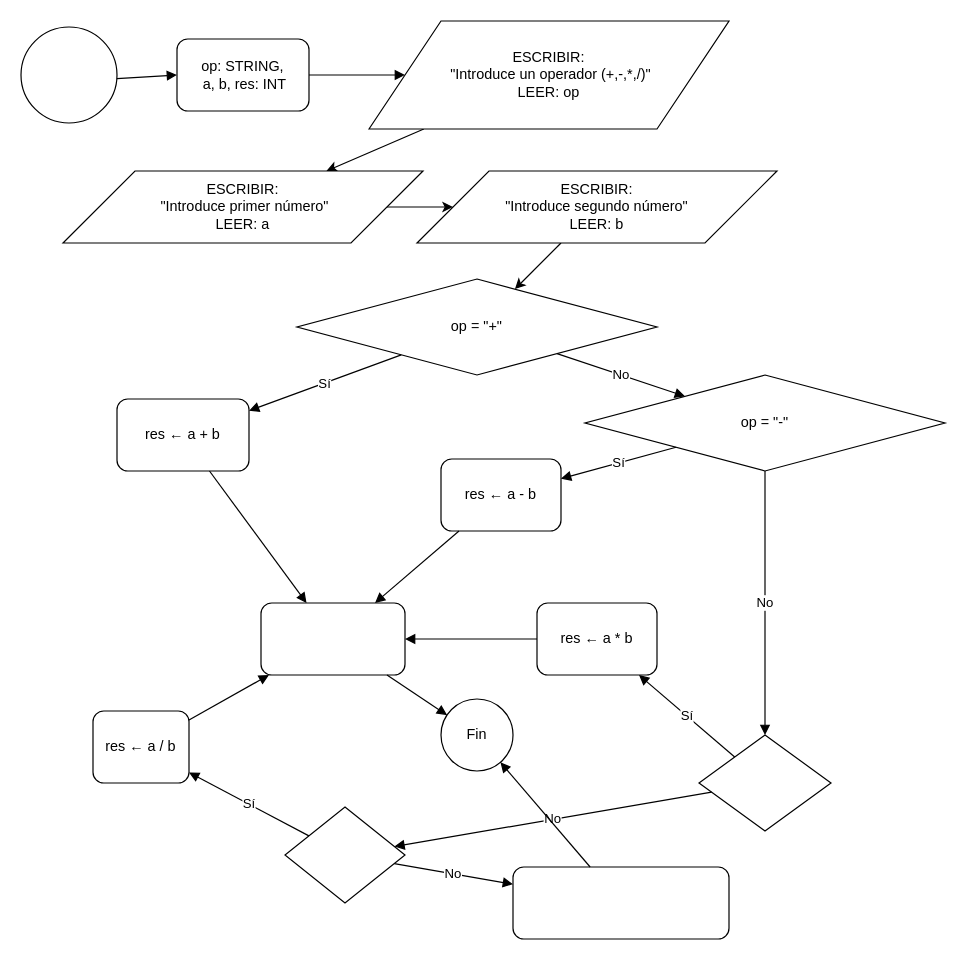
This 966x960 diagram has some shape labels left out. The centre of each missing label's shape, as x and y in pixels:
ESCRIBIR: "Error: operador inválido": pixel 620 902
ESCRIBIR: "Resultado = res": pixel 332 638
Inicio: pixel 68 74
op = "*": pixel 764 782
op = "/": pixel 344 854
